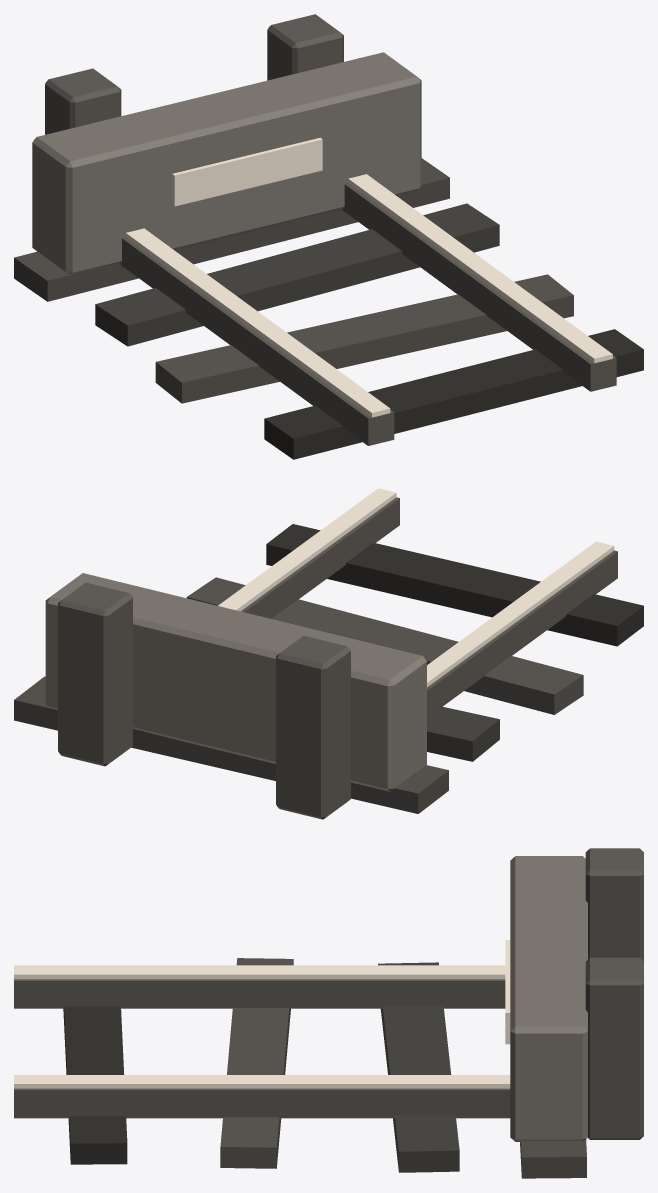
File: SM_VKI_Overlay_Track_End.fbx
3 views of the same model, one above another, from view 1: azimuth 30°, elevation 25°; view 2: azimuth 150°, elevation 25°; view 3: azimuth 270°, elevation 25° (orthographic). The views are drawn at different scales.
Visible parts, largest first — view 1: SM_VKI_Overlay_Track_End.001; view 2: SM_VKI_Overlay_Track_End.001; view 3: SM_VKI_Overlay_Track_End.001.
Part boxes in pixels (x1=…): SM_VKI_Overlay_Track_End.001: x1=14, y1=14, x2=643, y2=459; SM_VKI_Overlay_Track_End.001: x1=14, y1=488, x2=643, y2=819; SM_VKI_Overlay_Track_End.001: x1=14, y1=848, x2=643, y2=1178.
Bounding box in the file's own units: 1.1 × 0.418 × 1.46.
